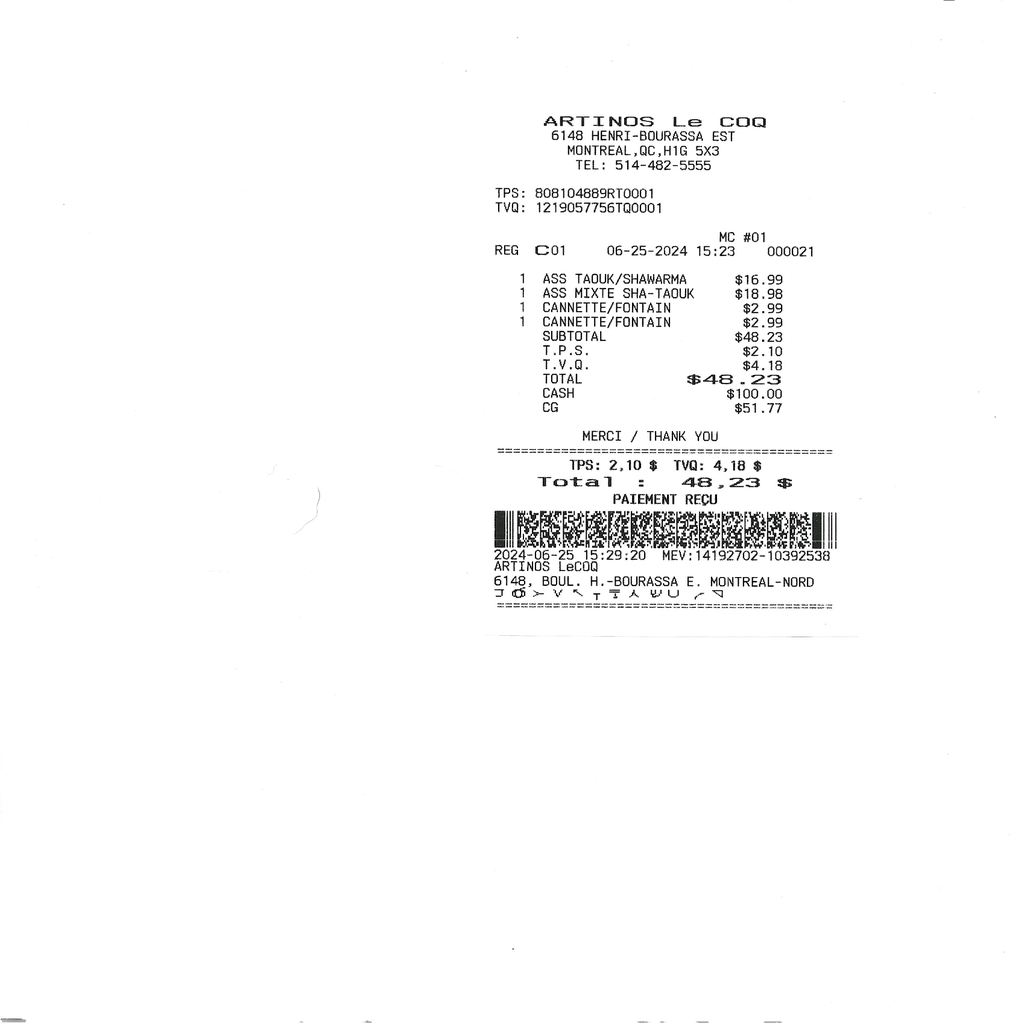recipt: (447, 86, 877, 630)
